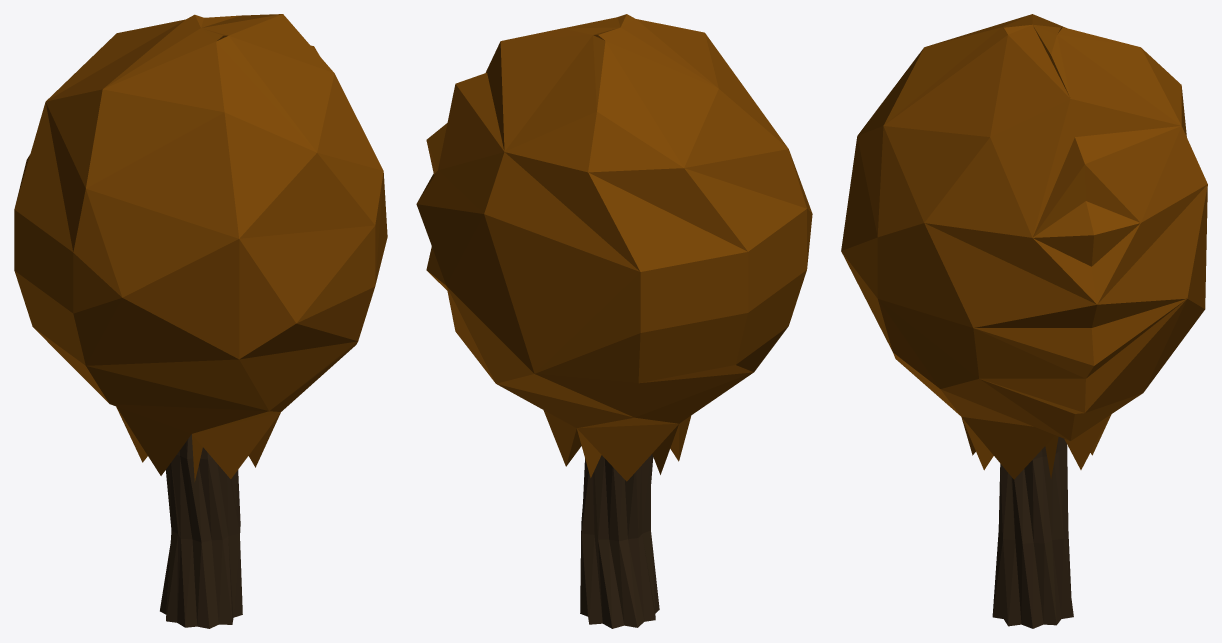
Rendered from NormalTree_Orange.fbx.
3 views of the same model, side by side, from view 1: azimuth 30°, elevation 25°; view 2: azimuth 150°, elevation 25°; view 3: azimuth 270°, elevation 25° (orthographic).
Visible parts, largest first — view 1: Trees:pSphere1, Trees:pCylinder1; view 2: Trees:pSphere1, Trees:pCylinder1; view 3: Trees:pSphere1, Trees:pCylinder1.
Part boxes in pixels (x1,y1,x2,y2): Trees:pSphere1: (14, 14, 387, 481); Trees:pCylinder1: (160, 434, 242, 628); Trees:pSphere1: (416, 14, 812, 481); Trees:pCylinder1: (580, 454, 659, 628); Trees:pSphere1: (841, 14, 1207, 479); Trees:pCylinder1: (992, 437, 1073, 628).
Size of the model in its own units: 0.171 by 0.291 by 0.1645.
